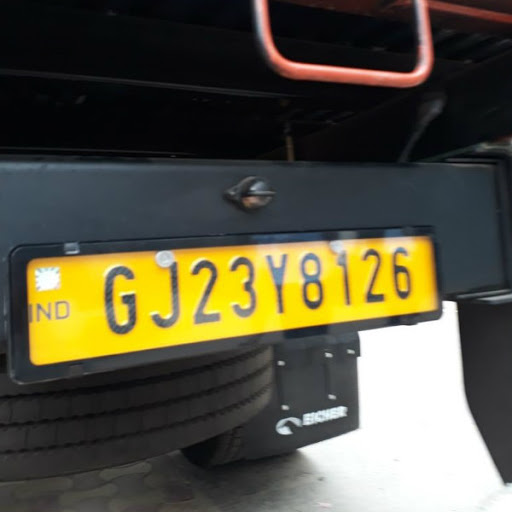numberplate: (7, 222, 442, 384)
